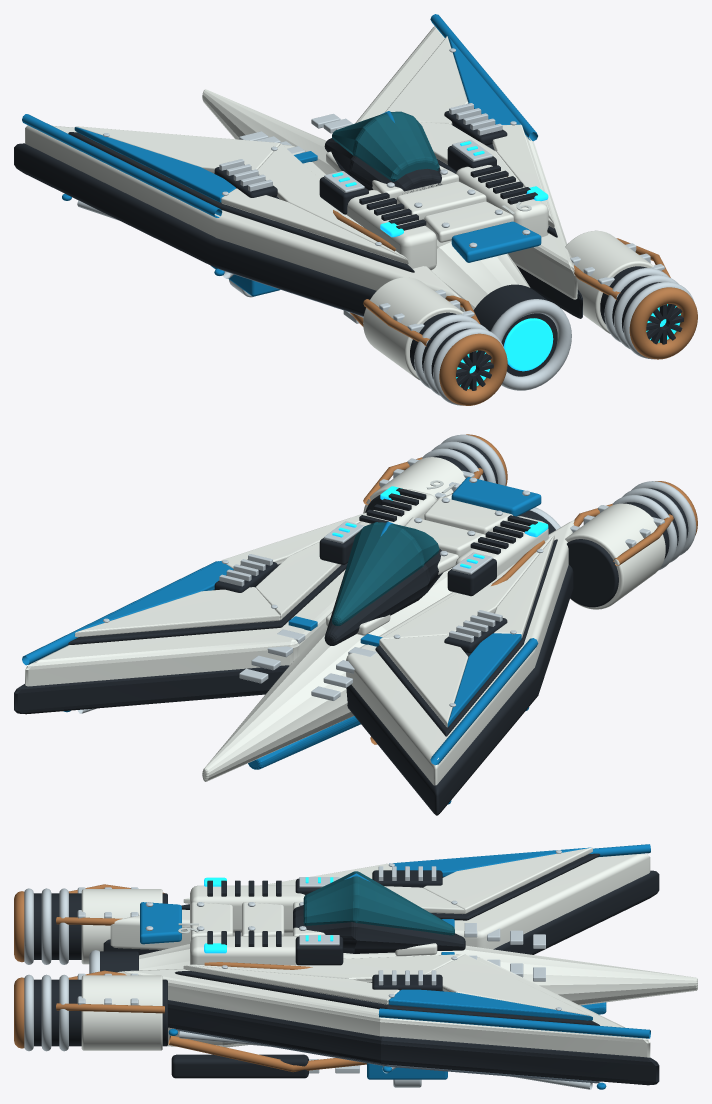
The picture shows the model from 3 angles, top to bottom: view 1: azimuth 30°, elevation 25°; view 2: azimuth 150°, elevation 25°; view 3: azimuth 270°, elevation 25°; orthographic projection. The views are drawn at different scales.
Parts seen in each view (by area): view 1: SolidHull_16; view 2: SolidHull_16; view 3: SolidHull_16.
Part boxes in pixels (left/top/right/bottom): SolidHull_16: left=14, top=14, right=697, bottom=405; SolidHull_16: left=14, top=434, right=697, bottom=815; SolidHull_16: left=14, top=844, right=697, bottom=1089.
Size of the model in its own units: 2.59 by 1.15 by 3.88.
